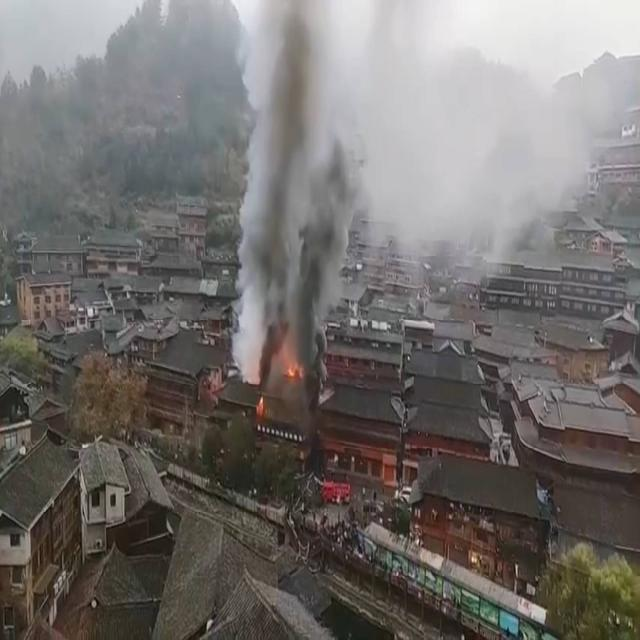Smoke: (232, 0, 353, 382)
